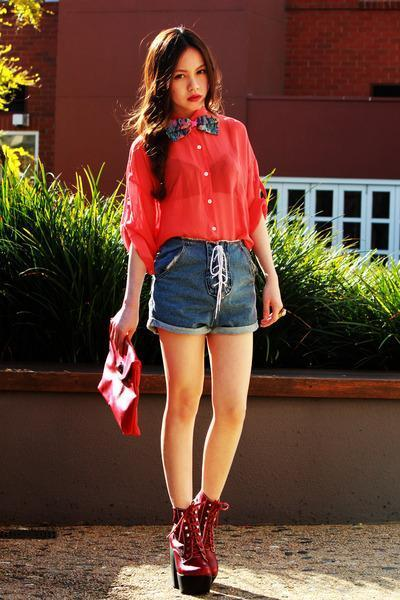bag: (98, 328, 146, 435)
shirt: (113, 117, 269, 274)
shoe: (155, 494, 227, 598)
shorts: (111, 236, 268, 360)
